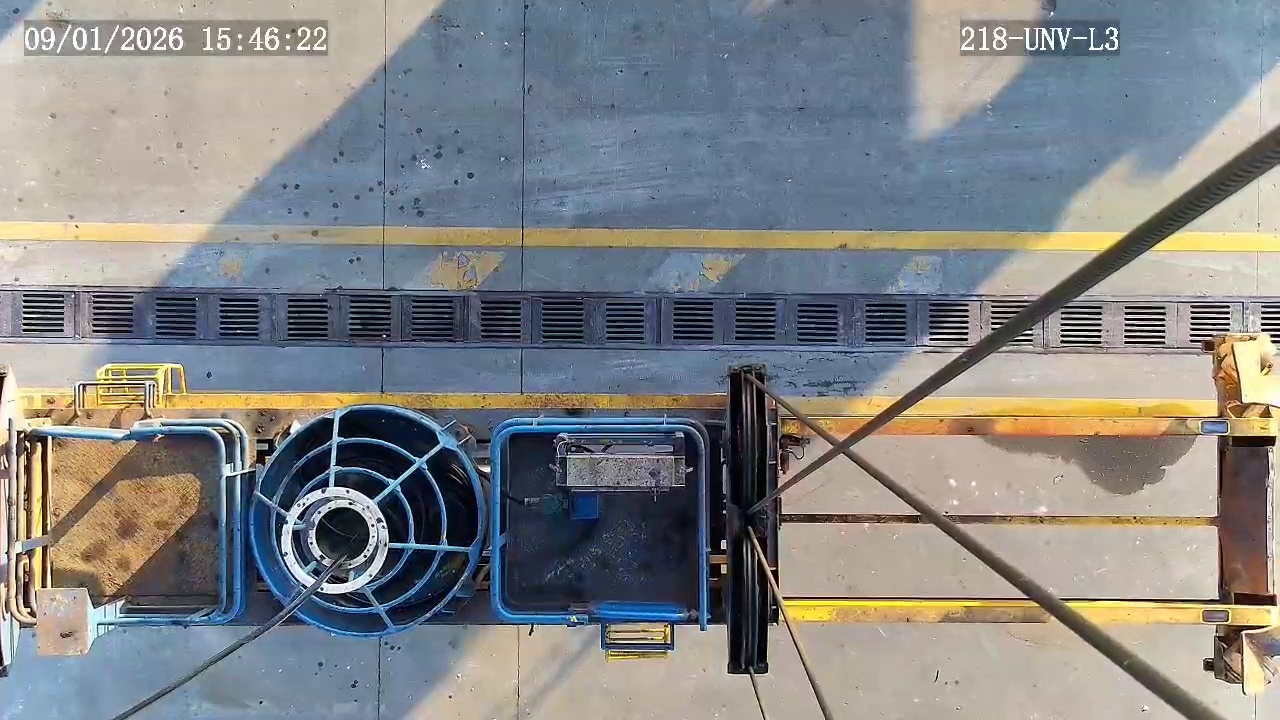right: (249, 405, 483, 636)
